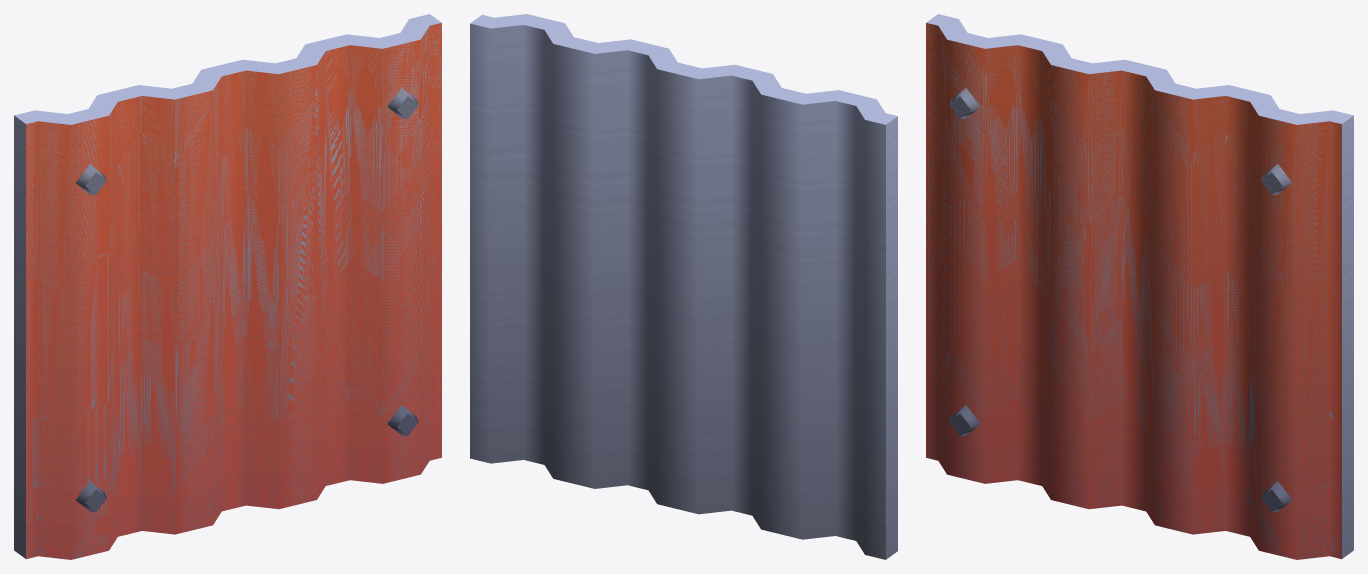
File: metal-panel-screws.005_lev3.glb
3 views of the same model, side by side, from view 1: azimuth 30°, elevation 25°; view 2: azimuth 150°, elevation 25°; view 3: azimuth 330°, elevation 25° (orthographic).
Visible parts, largest first — view 1: metal-panel-screws.005_lev3; view 2: metal-panel-screws.005_lev3; view 3: metal-panel-screws.005_lev3.
Boxes of the visible parts, x1,y1,x2,y2 form: metal-panel-screws.005_lev3: (14, 14, 441, 559); metal-panel-screws.005_lev3: (470, 14, 897, 559); metal-panel-screws.005_lev3: (926, 14, 1353, 559).
Bounding box in the file's own units: 4.11 × 4.11 × 0.5136.
Materials: 1 (1 with a texture image).
